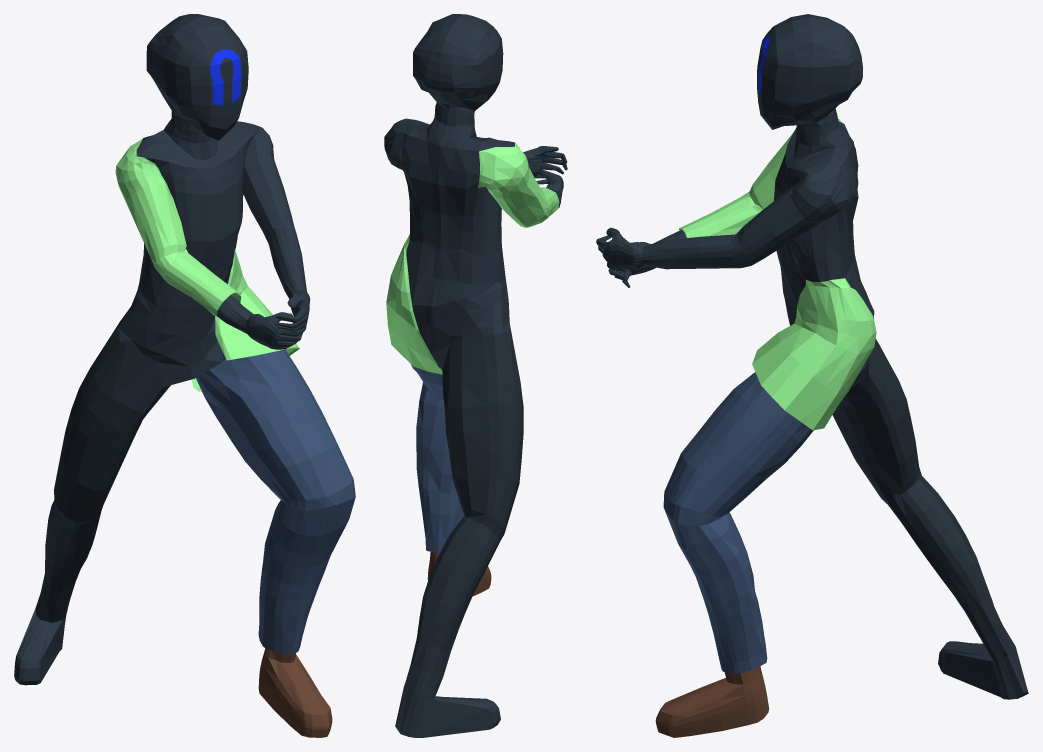
The model's file is Mar_WL_000005.obj.
The picture shows the model from 3 angles, left to right: view 1: azimuth 30°, elevation 25°; view 2: azimuth 150°, elevation 25°; view 3: azimuth 270°, elevation 25°; orthographic projection. The views are drawn at different scales.
Parts seen in each view (by area): view 1: Cube.000_Cube.001; view 2: Cube.000_Cube.001; view 3: Cube.000_Cube.001.
Part boxes in pixels (x1,y1,x2,y2): Cube.000_Cube.001: (14, 14, 355, 737); Cube.000_Cube.001: (384, 14, 567, 737); Cube.000_Cube.001: (596, 14, 1028, 737).
Bounding box in the file's own units: 1.16 × 3.71 × 2.07.
